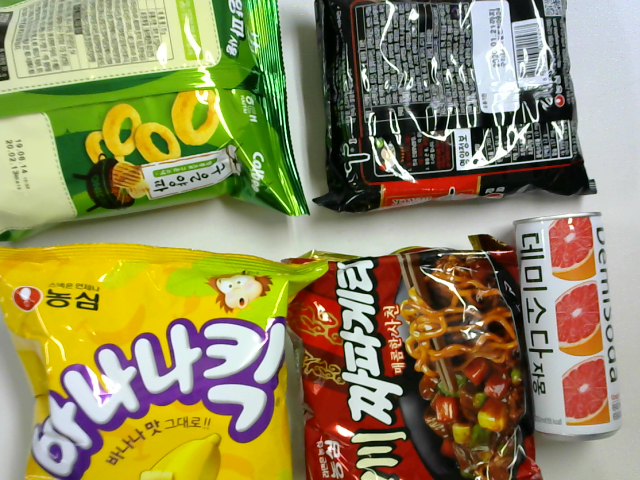Banana_Kick: (3, 242, 320, 480)
Demisoda_Grapefruit_Can_250ml: (511, 208, 629, 436)
Grilled_Onions: (1, 4, 303, 230)
Sichuan_Chapaghetti: (293, 242, 544, 480)
Sinramen_Black: (313, 6, 593, 208)
